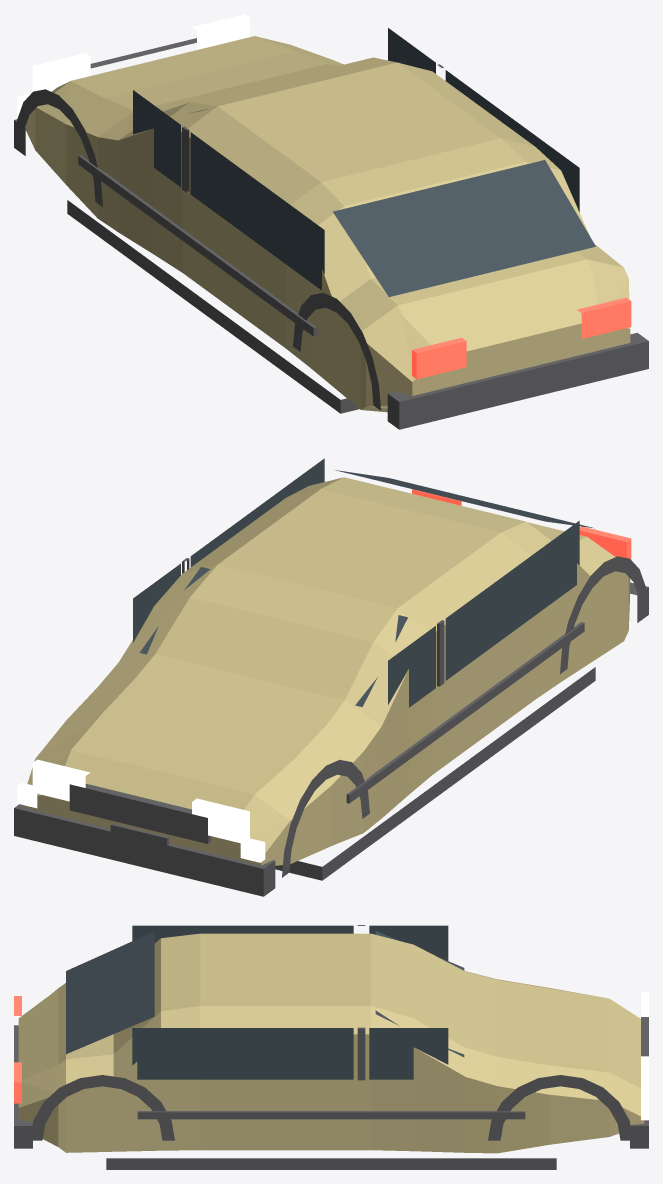
The model's file is zastava_hatch.glb.
3 renders of one model, top to bottom at view 1: azimuth 30°, elevation 25°; view 2: azimuth 150°, elevation 25°; view 3: azimuth 270°, elevation 25°, orthographic. The views are drawn at different scales.
Visible parts, largest first — view 1: car_body; view 2: car_body; view 3: car_body.
Part boxes in pixels (<box>): car_body: <box>14,14,648,429</box>; car_body: <box>14,458,648,896</box>; car_body: <box>14,925,648,1169</box>.
Size of the model in its own units: 1.63 by 1.04 by 4.02.
